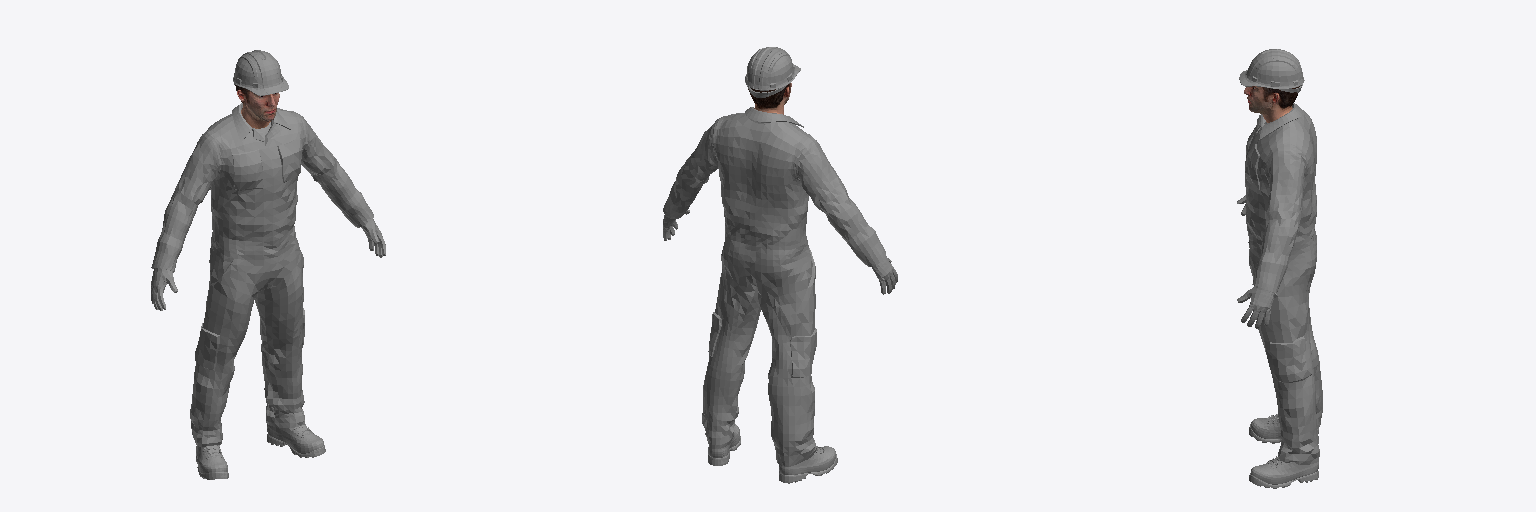
The picture shows the model from 3 angles: view 1: azimuth 30°, elevation 25°; view 2: azimuth 150°, elevation 25°; view 3: azimuth 270°, elevation 25°; orthographic projection.
Visible parts, largest first — view 1: body low, Worker; view 2: body low, Worker; view 3: body low, Worker.
Part boxes in pixels (x1,y1,x2,y2): body low: (151, 50, 385, 479); Worker: (235, 85, 279, 128); body low: (663, 47, 897, 483); Worker: (748, 83, 791, 114); body low: (1237, 49, 1322, 488); Worker: (1244, 86, 1299, 122).
Size of the model in its own units: 1.08 by 1.85 by 0.3518.
Materials: 5 (1 with a texture image).